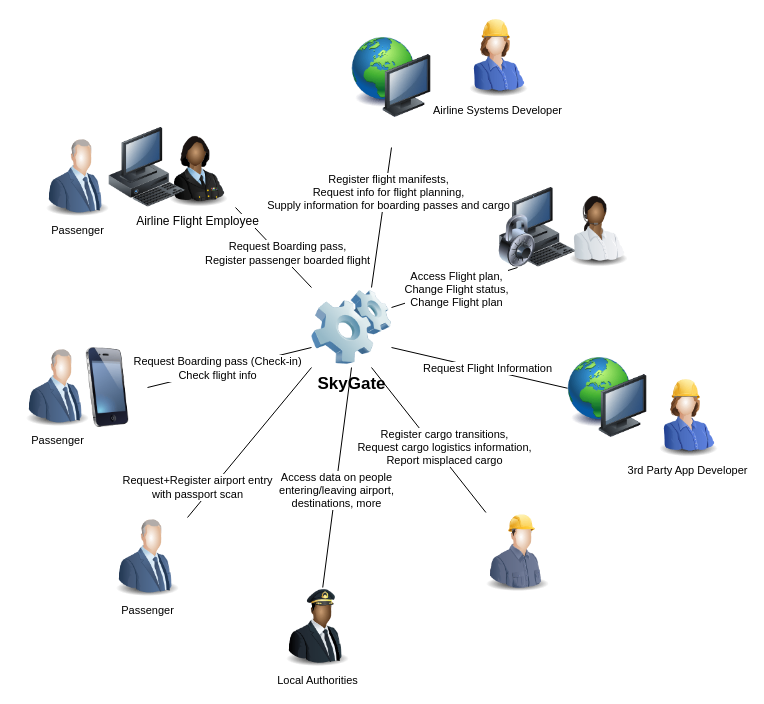
Image size: 764x704. Some labels were removed from this diagram. Each missing label, with the centre of its shape:
3rd Party Apps: point 607,397
Airline Systems: point 391,77
Cargo Logistics: point 517,552
Flight Control: point 597,227
